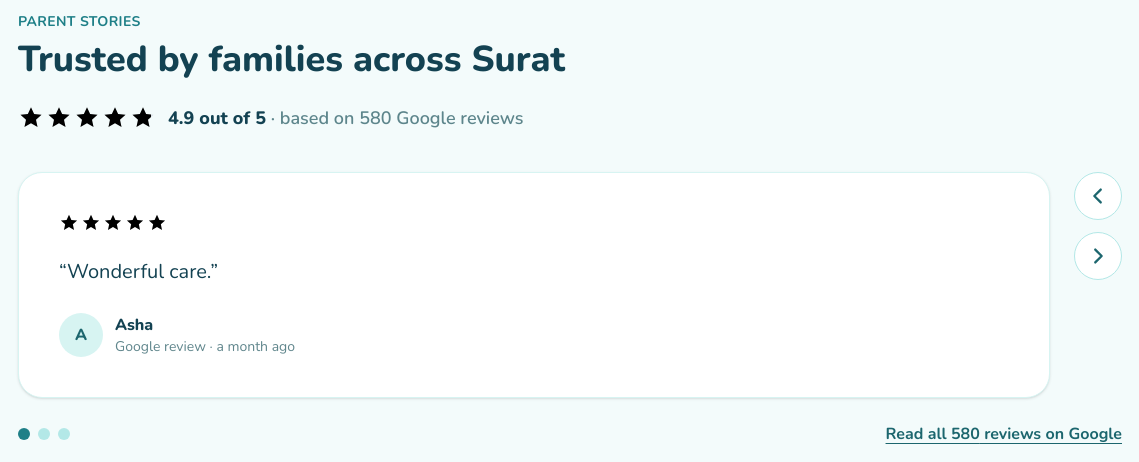
Test: Reviews › jumps to a review via the dot navigation and marks it current
This screenshot has width=1139, height=462.
Step 1. Click the button named "review 2 of 3 by Bharat" → (44,434), box left=38, top=428, right=50, bottom=440
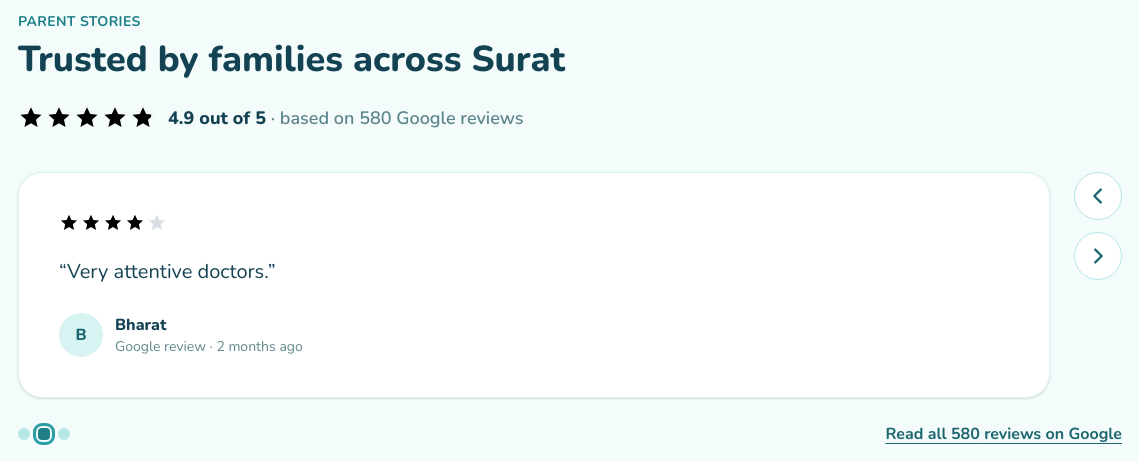
expect the text "Bharat" is shown: met, box left=115, top=314, right=166, bottom=336
